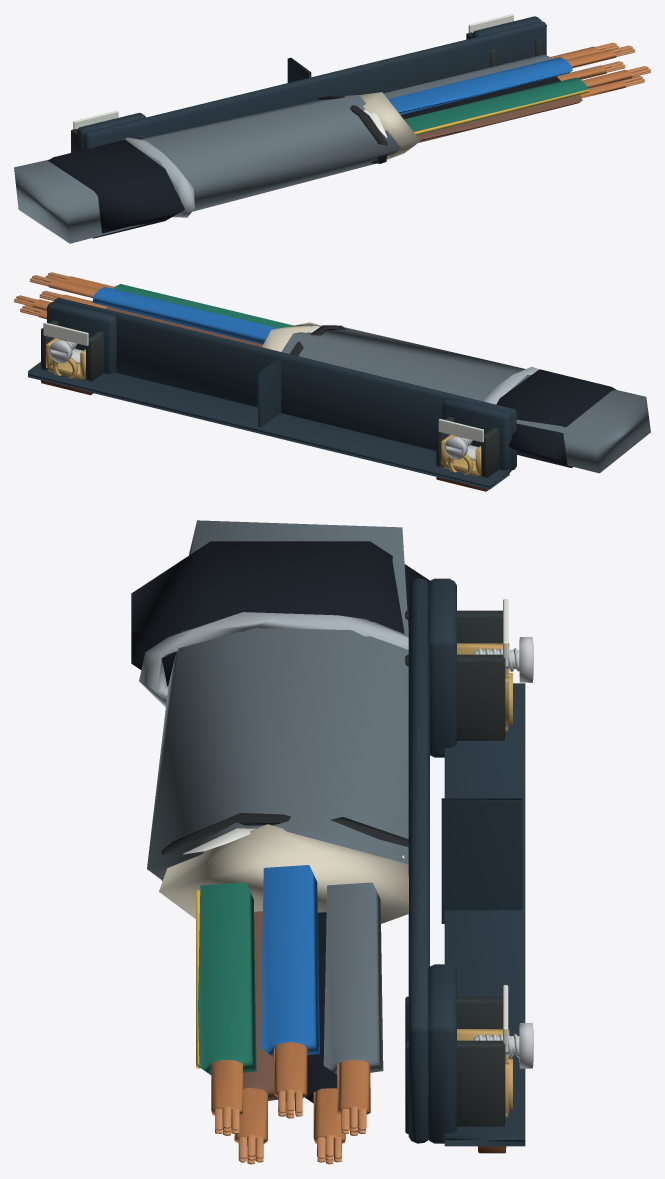
File: cable_five-core.low.glb
The picture shows the model from 3 angles, top to bottom: view 1: azimuth 30°, elevation 25°; view 2: azimuth 150°, elevation 25°; view 3: azimuth 270°, elevation 25°; orthographic projection. The views are drawn at different scales.
Visible parts, largest first — view 1: part:body, part:terminals · Original a463fd81, part:sheath, part:mounting, part:sheath · Original db0da9ae, detail:stranded-copper-cores · Detail oxygen-free copper, Cutaway cable outer sheath, Moulded terminal legend pad, Moulded terminal legend pad.001; view 2: part:terminals · Original a463fd81, part:body, part:mounting, part:sheath, part:sheath · Original db0da9ae, detail:terminal-clamp:IN · Detail moulded engineering polyme, detail:terminal-clamp:OUT · Detail moulded engineering polym, detail:terminal-clamp:IN · Detail machined brass, detail:stranded-copper-cores · Detail oxygen-free copper, detail:terminal-clamp:OUT · Detail machined brass, Moulded terminal legend pad.001, Moulded terminal legend pad (+2 smaller); view 3: part:body, part:terminals · Original a463fd81, part:sheath, part:mounting, part:sheath · Original db0da9ae, detail:terminal-clamp:OUT · Detail moulded engineering polym, detail:terminal-clamp:IN · Detail moulded engineering polyme, detail:stranded-copper-cores · Detail oxygen-free copper, Cutaway cable outer sheath, detail:terminal-clamp:OUT · Detail zinc plated fixing, detail:terminal-clamp:IN · Detail zinc plated fixing.
Boxes of the visible parts, x1,y1,x2,y2 form: part:body: (14, 92, 420, 243); part:terminals · Original a463fd81: (77, 16, 546, 151); part:sheath: (383, 54, 588, 142); part:mounting: (48, 137, 194, 238); part:sheath · Original db0da9ae: (550, 46, 636, 98); detail:stranded-copper-cores · Detail oxygen-free copper: (595, 42, 650, 86); Cutaway cable outer sheath: (318, 95, 387, 163); Moulded terminal legend pad: (73, 110, 118, 129); Moulded terminal legend pad.001: (468, 14, 513, 32); part:terminals · Original a463fd81: (28, 298, 516, 489); part:body: (262, 322, 650, 473); part:mounting: (483, 366, 616, 467); part:sheath: (92, 284, 293, 347); part:sheath · Original db0da9ae: (28, 276, 114, 319); detail:terminal-clamp:IN · Detail moulded engineering polyme: (436, 417, 499, 478); detail:terminal-clamp:OUT · Detail moulded engineering polym: (41, 320, 103, 381); detail:terminal-clamp:IN · Detail machined brass: (441, 434, 481, 476); detail:stranded-copper-cores · Detail oxygen-free copper: (14, 272, 69, 316); detail:terminal-clamp:OUT · Detail machined brass: (46, 338, 85, 379); Moulded terminal legend pad.001: (43, 322, 88, 345); Moulded terminal legend pad: (438, 419, 483, 442); part:body: (147, 520, 408, 923); part:terminals · Original a463fd81: (408, 578, 525, 1146); part:sheath: (196, 865, 383, 1103); part:mounting: (131, 541, 429, 707); part:sheath · Original db0da9ae: (211, 1042, 370, 1145); detail:terminal-clamp:OUT · Detail moulded engineering polym: (405, 996, 507, 1133); detail:terminal-clamp:IN · Detail moulded engineering polyme: (405, 610, 507, 740); detail:stranded-copper-cores · Detail oxygen-free copper: (215, 1089, 366, 1164); Cutaway cable outer sheath: (161, 813, 408, 881); detail:terminal-clamp:OUT · Detail zinc plated fixing: (473, 1022, 533, 1068); detail:terminal-clamp:IN · Detail zinc plated fixing: (473, 637, 533, 682).
Size of the model in its own units: 1.52 by 0.1677 by 0.4474.
